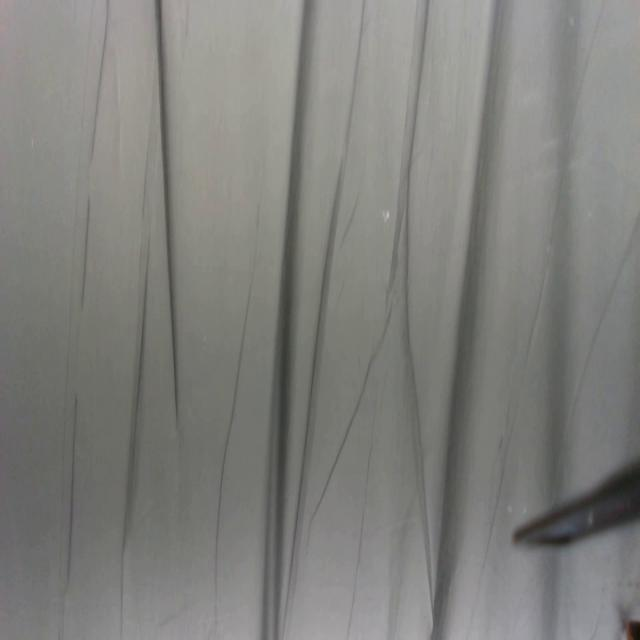crease: (394, 0, 437, 640), (212, 240, 258, 640), (116, 232, 150, 637), (154, 0, 181, 433), (89, 0, 112, 166), (64, 391, 80, 600), (78, 189, 93, 314)
hole: (625, 614, 640, 640), (382, 208, 392, 225)
